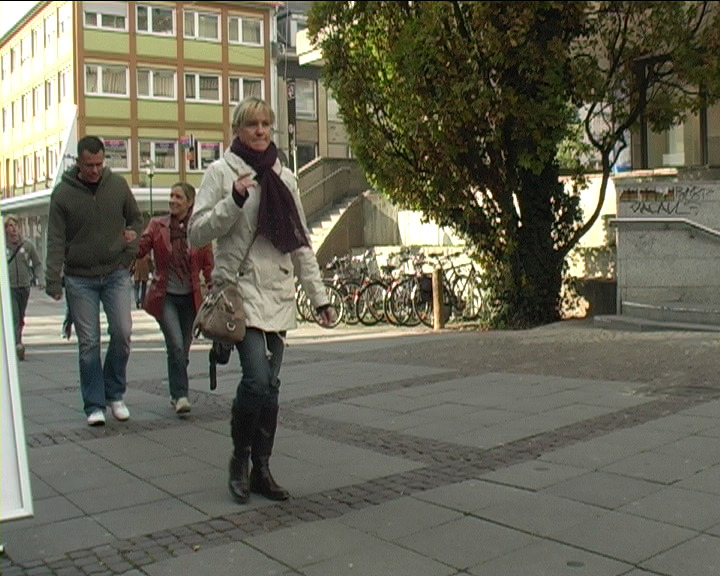deflection: (144, 182, 210, 252)
